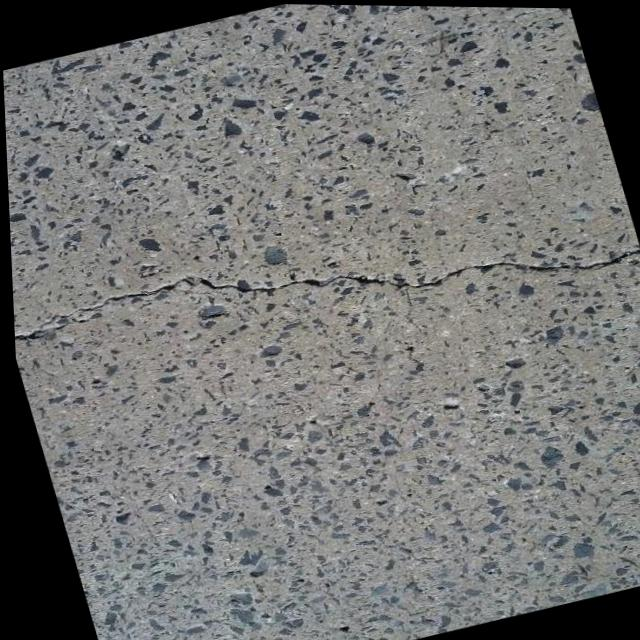Crack: (6, 158, 640, 426)
